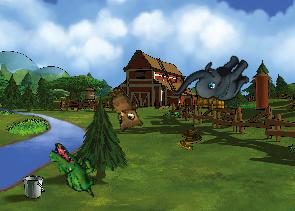crocodile: (39, 140, 108, 199)
elephant: (171, 36, 257, 125)
owl: (96, 84, 147, 138)
